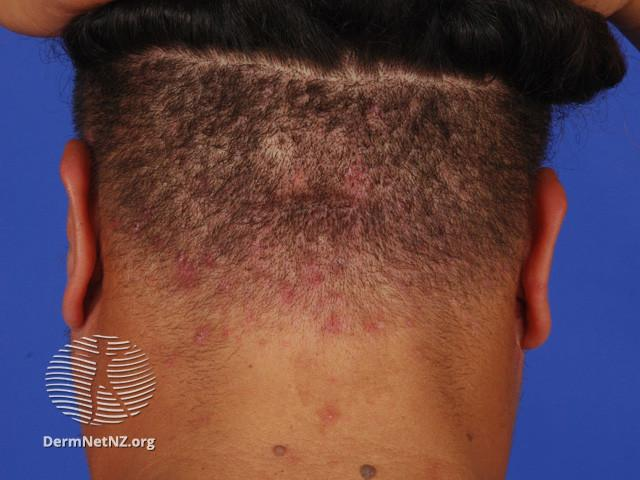Folliculitis: (119, 136, 501, 456)
